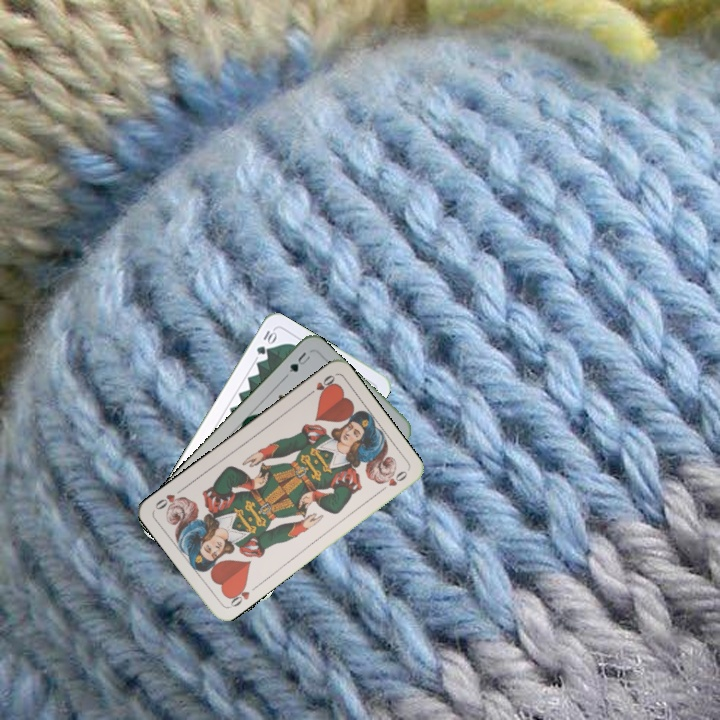G10: (252, 326, 279, 357)
GU: (285, 348, 313, 375)
HO: (302, 371, 338, 400), (223, 580, 253, 611)
